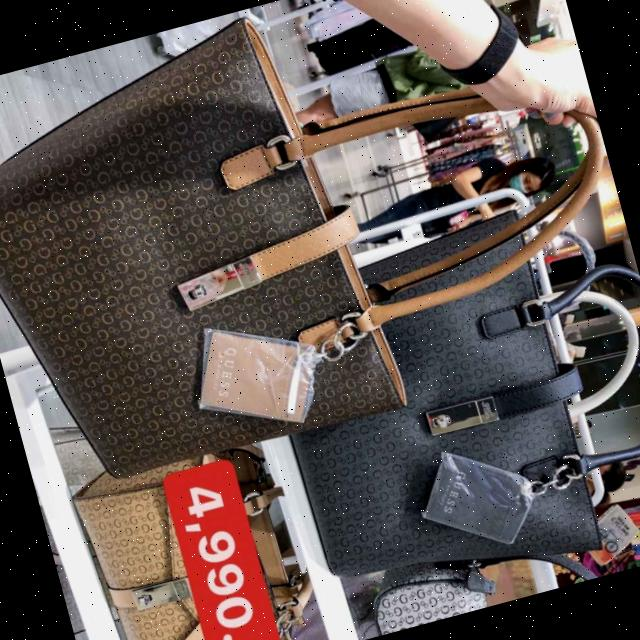Handbag: (0, 4, 419, 504)
